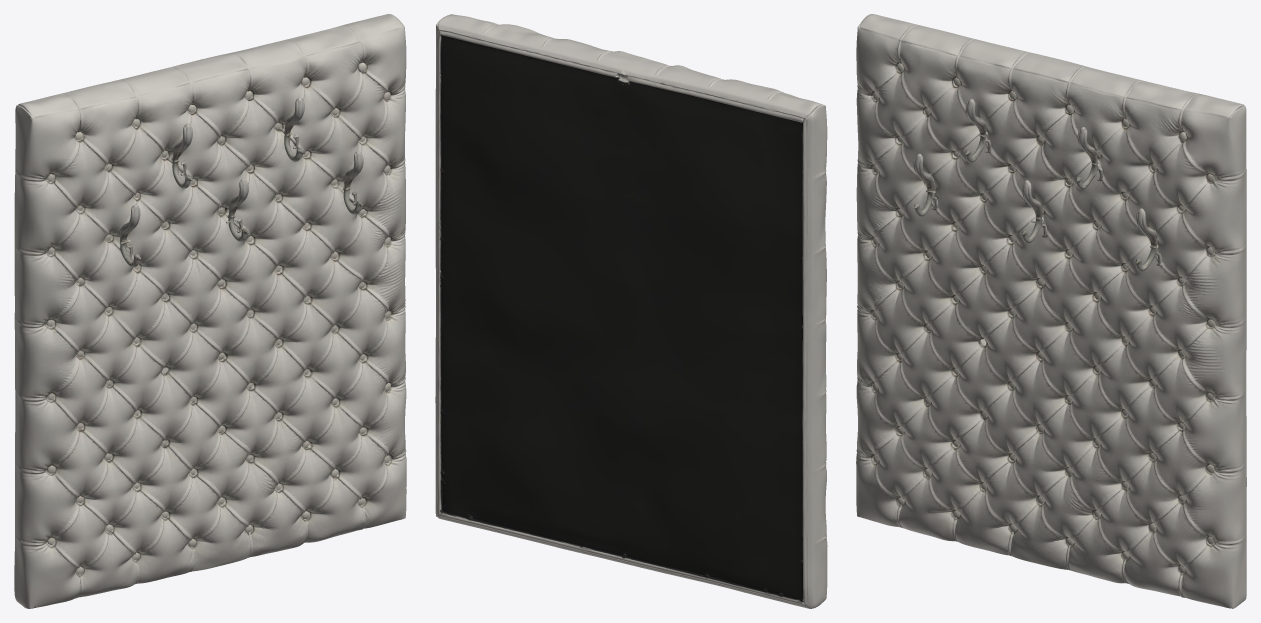
The model's file is No Name.glb.
3 renders of one model, left to right at view 1: azimuth 30°, elevation 25°; view 2: azimuth 150°, elevation 25°; view 3: azimuth 330°, elevation 25°, orthographic.
Parts seen in each view (by area): view 1: tripo_node_3d34e88e-348d-4d59-ae77-c026e8a399df; view 2: tripo_node_3d34e88e-348d-4d59-ae77-c026e8a399df; view 3: tripo_node_3d34e88e-348d-4d59-ae77-c026e8a399df.
Boxes of the visible parts, left/top/right/bottom form: tripo_node_3d34e88e-348d-4d59-ae77-c026e8a399df: left=14, top=14, right=406, bottom=608; tripo_node_3d34e88e-348d-4d59-ae77-c026e8a399df: left=435, top=14, right=827, bottom=608; tripo_node_3d34e88e-348d-4d59-ae77-c026e8a399df: left=856, top=14, right=1246, bottom=608.
Size of the model in its own units: 0.7849 by 0.98 by 0.1612.
Materials: 1 (1 with a texture image).
